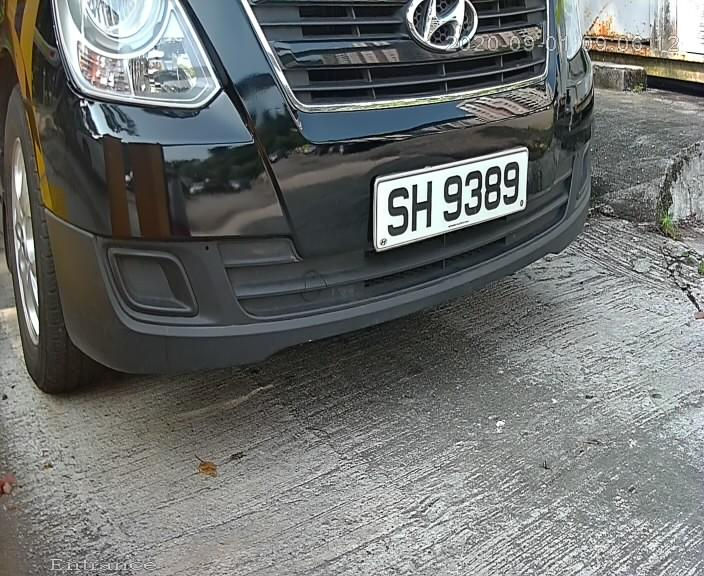Car: (16, 1, 626, 412)
License Plate: (371, 137, 541, 250)
